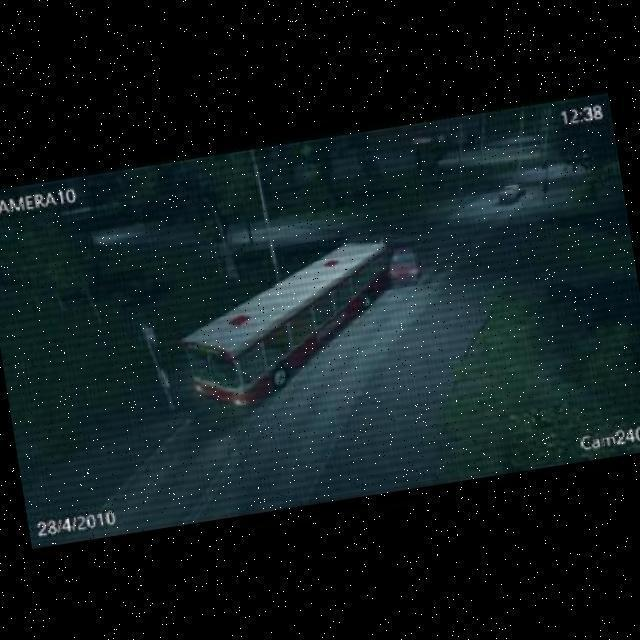accident: (362, 236, 429, 294)
